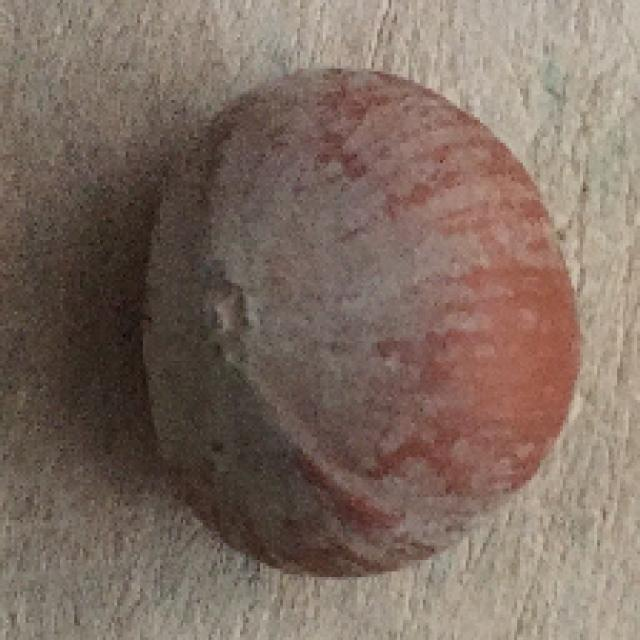qualityHazelnut: (136, 53, 572, 589)
